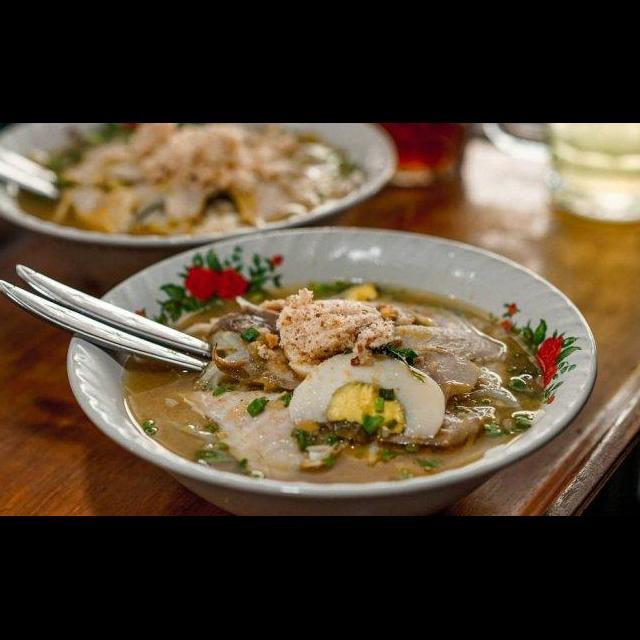Soto: (132, 240, 522, 480)
